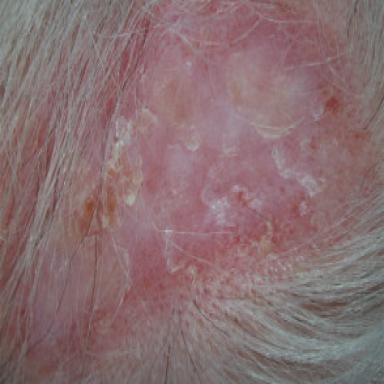Lupus-Erythematosus-Chronicus-Discoides: (21, 16, 358, 347)
